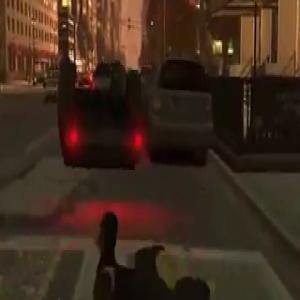serious: (57, 41, 154, 170)
